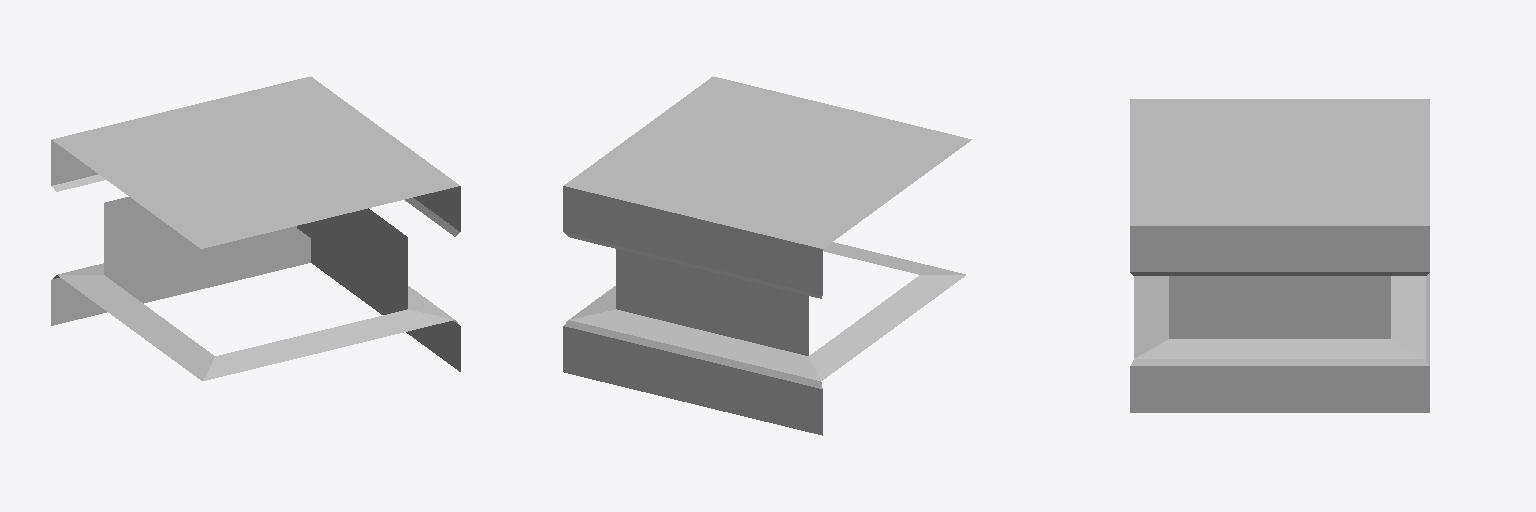
File: JC_ModPanels_MainTile_II.obj
3 views of the same model, side by side, from view 1: azimuth 30°, elevation 25°; view 2: azimuth 150°, elevation 25°; view 3: azimuth 270°, elevation 25° (orthographic).
Parts seen in each view (by area): view 1: JC_ModPanels_MainTile_II; view 2: JC_ModPanels_MainTile_II; view 3: JC_ModPanels_MainTile_II.
Part boxes in pixels (left/top/right/bottom): JC_ModPanels_MainTile_II: left=51, top=76, right=460, bottom=380; JC_ModPanels_MainTile_II: left=563, top=76, right=971, bottom=435; JC_ModPanels_MainTile_II: left=1130, top=99, right=1429, bottom=412.
Bounding box in the file's own units: 200 × 137 × 200.